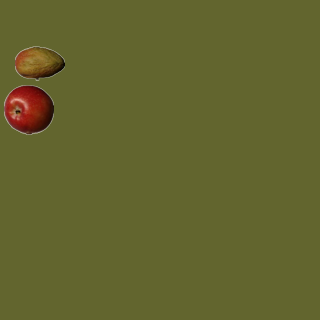Apple Braeburn: (3, 84, 53, 134)
Papaya: (14, 38, 64, 88)
